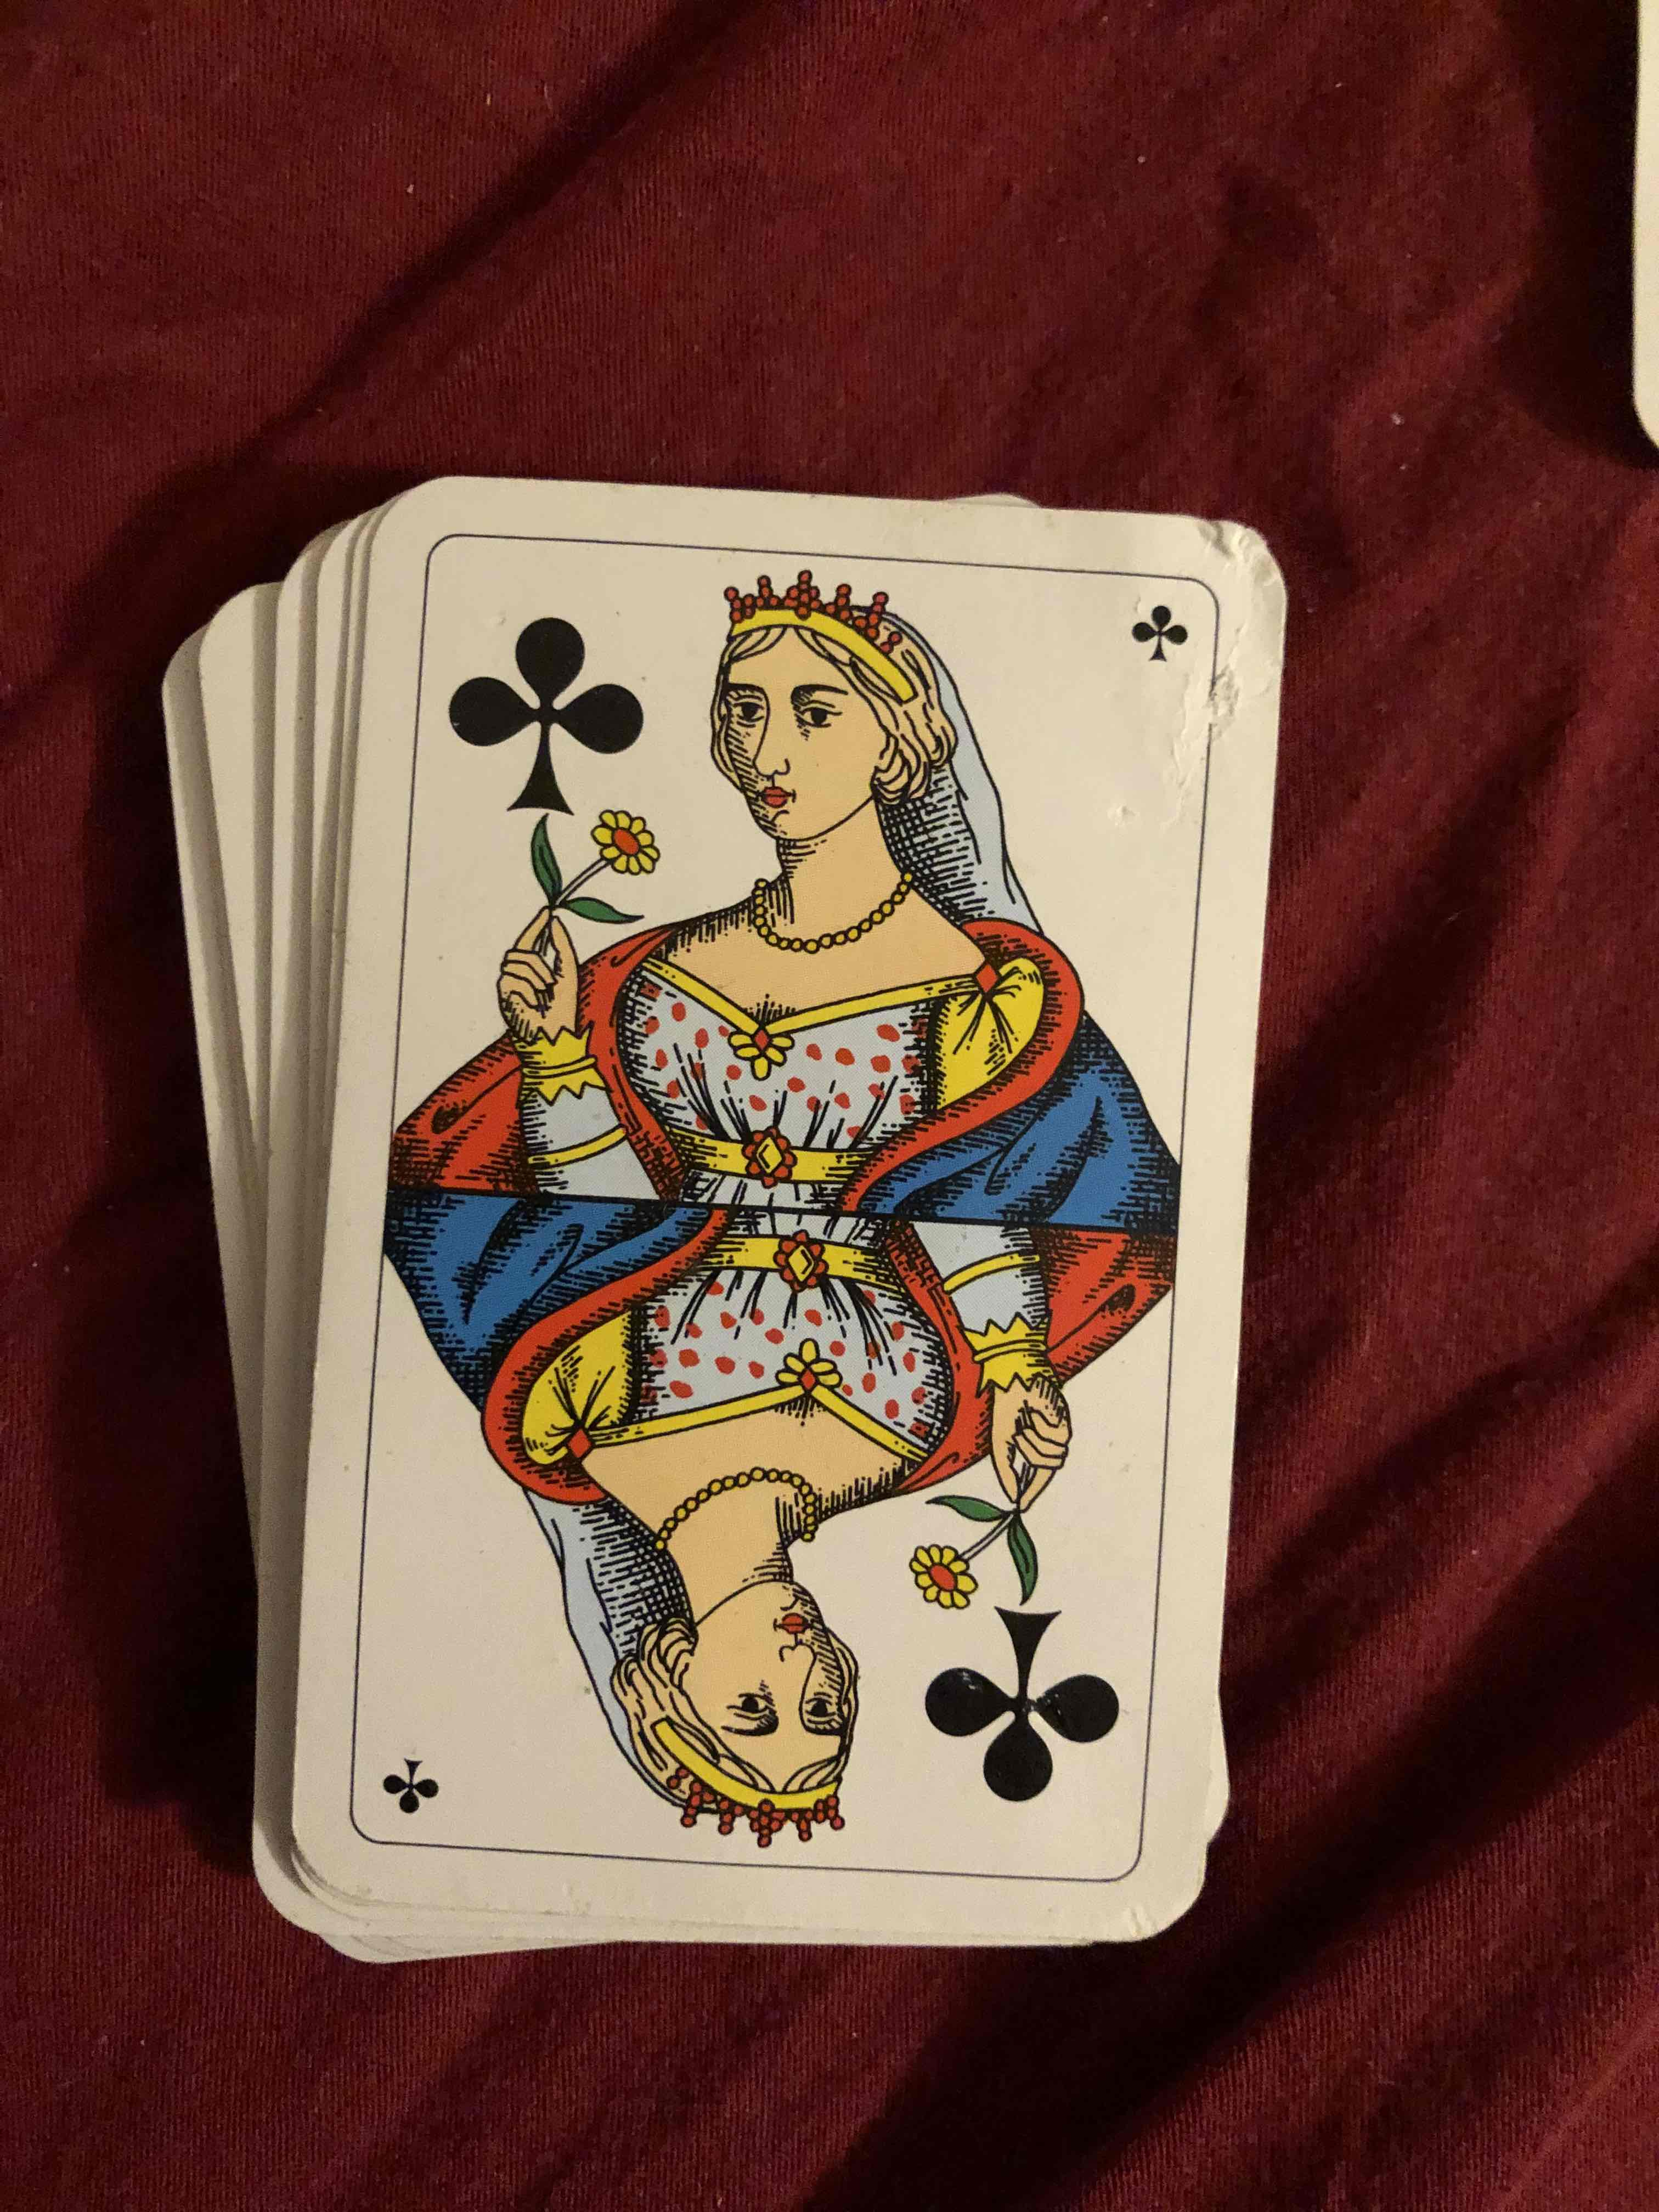clubsQueen: (396, 500, 1176, 1928)
